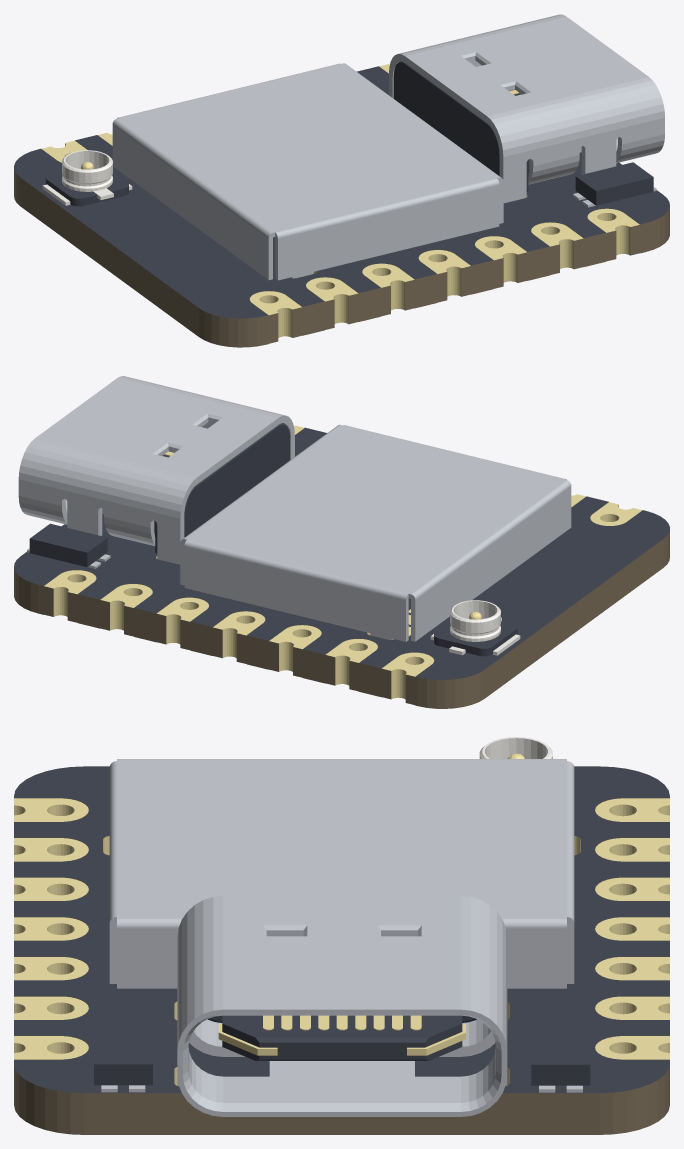
File: xiao-esp32s3.glb
3 renders of one model, top to bottom at view 1: azimuth 30°, elevation 25°; view 2: azimuth 150°, elevation 25°; view 3: azimuth 270°, elevation 25°, orthographic. The views are drawn at different scales.
Visible parts, largest first — view 1: xiao_steel, xiao_black, xiao_edge, xiao_gold, xiao_white; view 2: xiao_steel, xiao_black, xiao_edge, xiao_gold, xiao_white; view 3: xiao_steel, xiao_black, xiao_gold, xiao_edge, xiao_white.
Boxes of the visible parts, x1,y1,x2,y2 form: xiao_steel: (112, 14, 664, 280); xiao_black: (14, 61, 669, 318); xiao_edge: (14, 141, 669, 347); xiao_gold: (41, 64, 639, 337); xiao_white: (42, 150, 132, 205); xiao_steel: (18, 376, 571, 641); xiao_black: (14, 423, 669, 679); xiao_edge: (14, 502, 669, 708); xiao_gold: (44, 425, 642, 699); xiao_white: (430, 600, 520, 655); xiao_steel: (101, 759, 582, 1116); xiao_black: (14, 766, 669, 1093); xiao_gold: (14, 753, 669, 1085); xiao_edge: (14, 798, 669, 1134); xiao_white: (479, 737, 552, 758).
Bounding box in the file's own units: 2.5 × 0.496 × 1.98.
